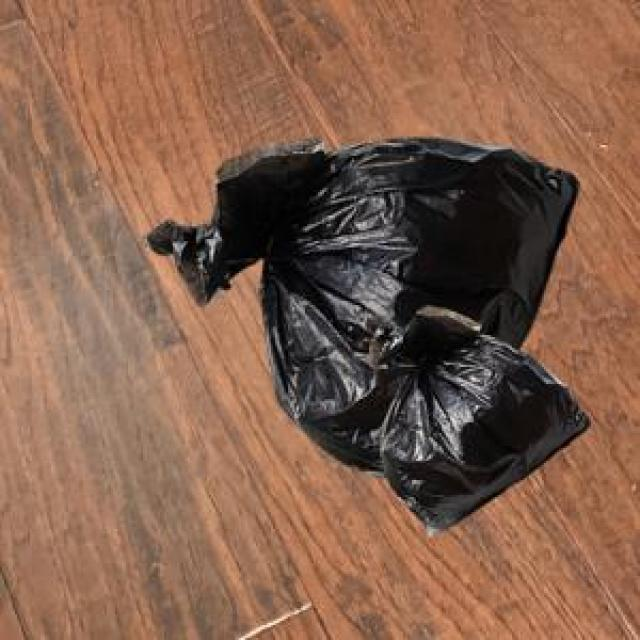waste: (149, 138, 586, 527)
